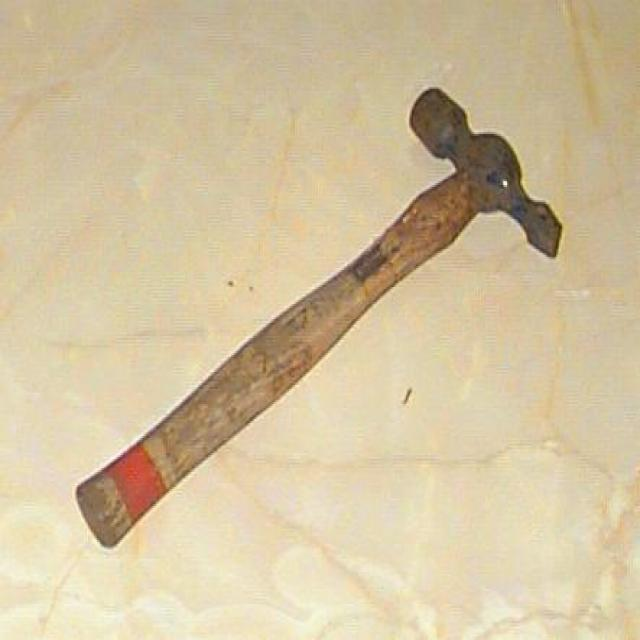hammer: (65, 77, 572, 568)
